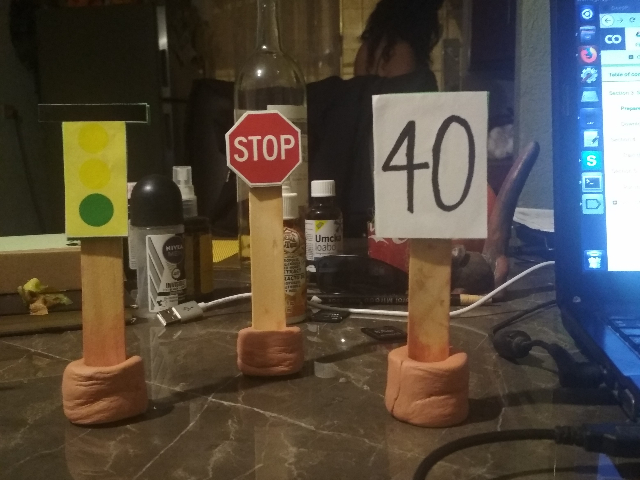Green Traffic Light: (36, 101, 147, 240)
Speed Limit 40: (369, 91, 490, 240)
Stop Sign: (225, 109, 306, 187)
